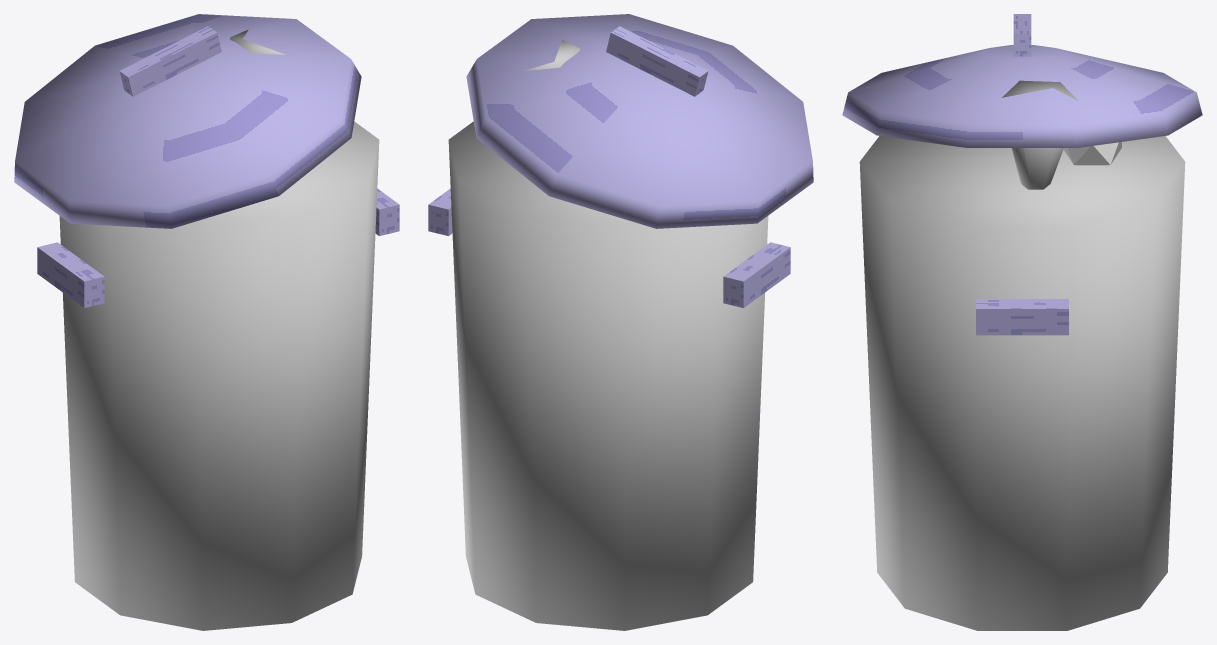
The model's file is Trash Can.fbx.
3 renders of one model, left to right at view 1: azimuth 30°, elevation 25°; view 2: azimuth 150°, elevation 25°; view 3: azimuth 270°, elevation 25°, orthographic.
Parts seen in each view (by area): view 1: Trash Can body, Trash Can lid.001, Trash Can lid handle, Trash Can handle -1, Trash Can handle 1; view 2: Trash Can body, Trash Can lid.001, Trash Can lid handle, Trash Can handle -1, Trash Can handle 1; view 3: Trash Can body, Trash Can lid.001, Trash Can handle 1, Trash Can cone, Trash Can wrapper, Trash Can lid handle.
Part boxes in pixels (x1,y1,x2,y2): Trash Can body: (59, 121, 379, 630); Trash Can lid.001: (14, 14, 361, 228); Trash Can lid handle: (119, 26, 221, 96); Trash Can handle -1: (37, 242, 104, 307); Trash Can handle 1: (375, 188, 399, 235); Trash Can body: (448, 121, 768, 630); Trash Can lid.001: (466, 14, 813, 228); Trash Can lid handle: (606, 26, 708, 96); Trash Can handle -1: (723, 242, 790, 307); Trash Can handle 1: (428, 188, 452, 235); Trash Can body: (859, 136, 1185, 630); Trash Can lid.001: (842, 45, 1202, 147); Trash Can handle 1: (976, 299, 1068, 335); Trash Can cone: (1002, 80, 1078, 189); Trash Can wrapper: (1063, 142, 1121, 165); Trash Can lid handle: (1013, 14, 1031, 56).
Bounding box in the file's own units: 0.6565 × 1.02 × 0.62.
